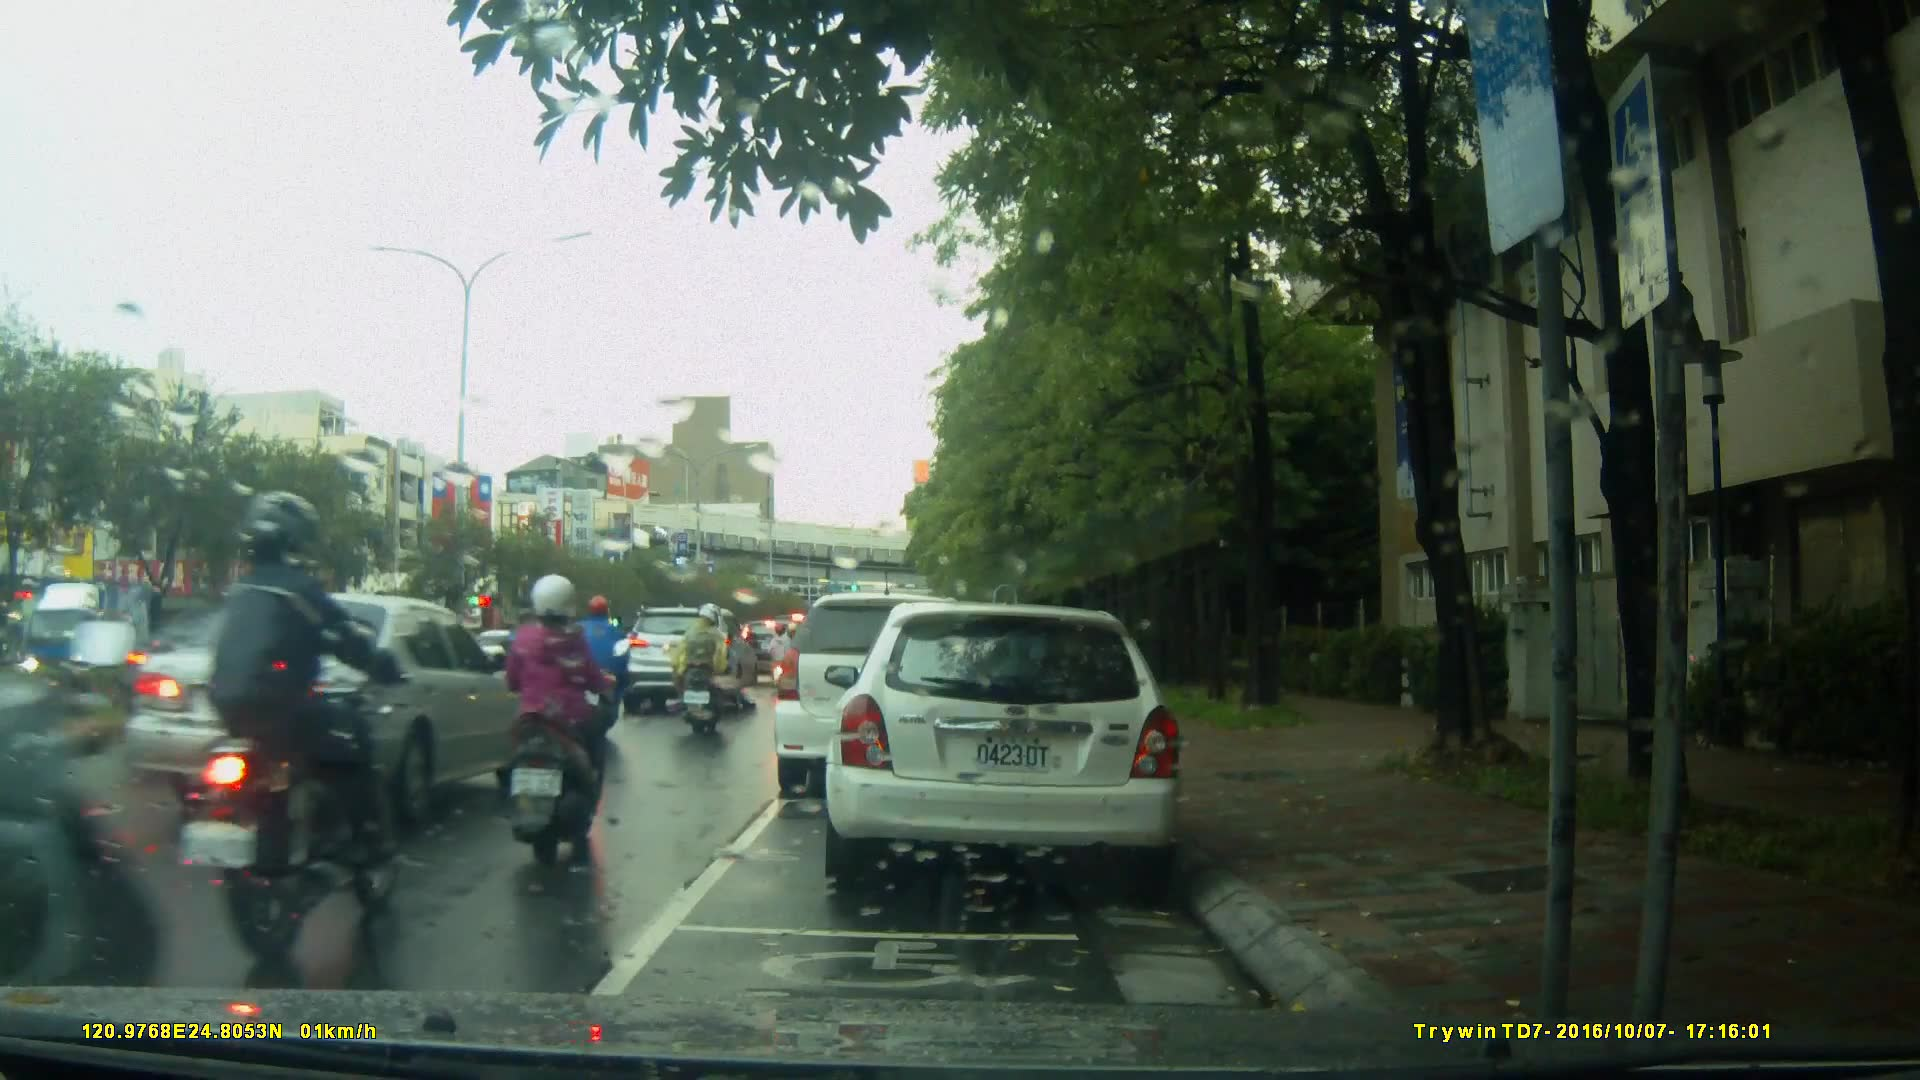rider: (190, 490, 401, 961), (493, 579, 609, 865), (569, 595, 636, 728), (673, 601, 733, 740), (768, 623, 802, 698)
vehicle: (822, 604, 1188, 883), (120, 591, 542, 828), (774, 595, 995, 802), (618, 608, 761, 712)
